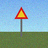sign: (15, 7, 28, 37)
